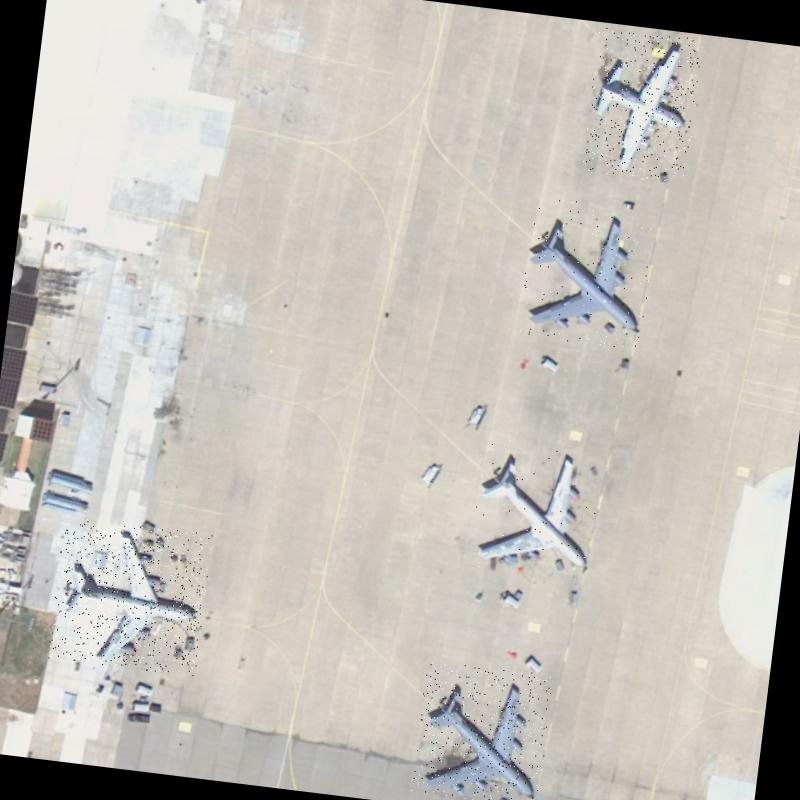A11: (47, 516, 212, 676), (465, 436, 606, 586)
A14: (516, 194, 657, 350), (410, 659, 553, 800)
A2: (581, 26, 703, 184)
